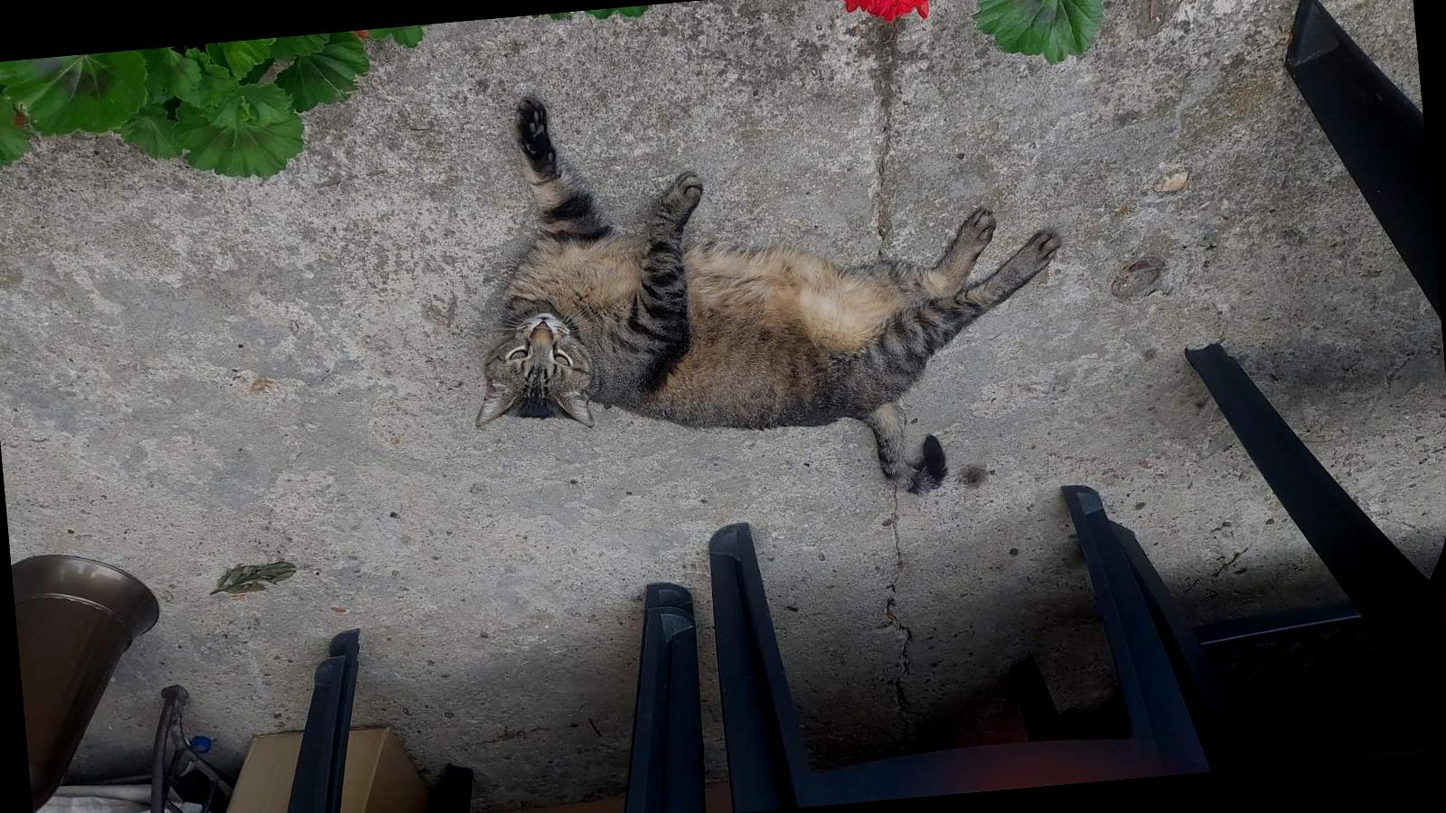macka: (446, 54, 1084, 537)
